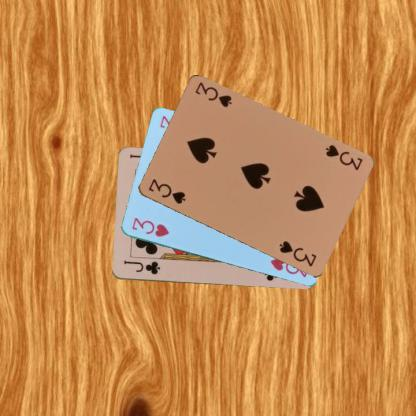3h: (129, 215, 170, 239)
3s: (145, 176, 187, 206), (322, 142, 364, 172)
Jc: (121, 258, 161, 276)
